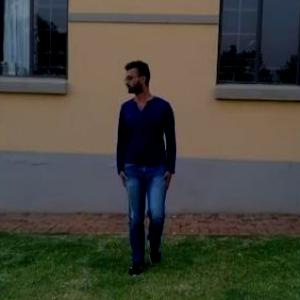follow: (108, 50, 182, 283)
